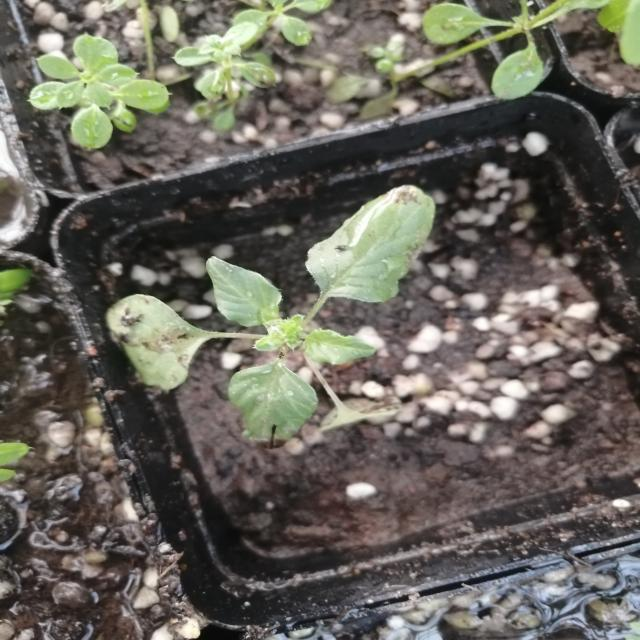pigweed: (94, 183, 434, 427)
